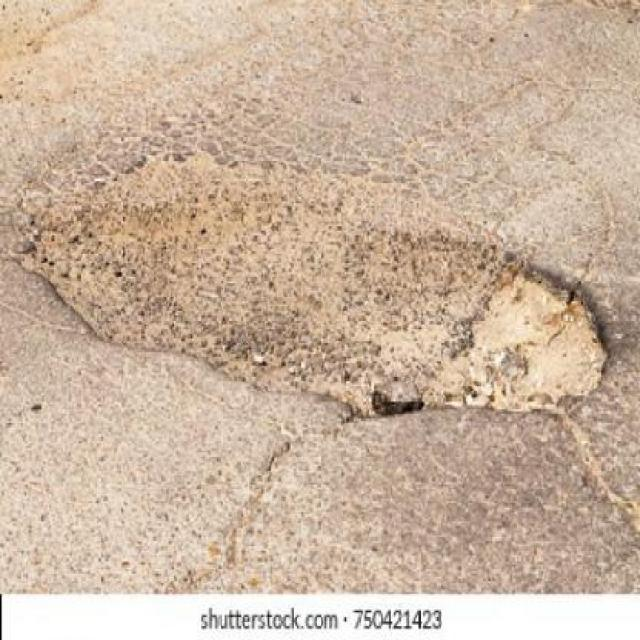Buraco: (7, 142, 624, 426)
